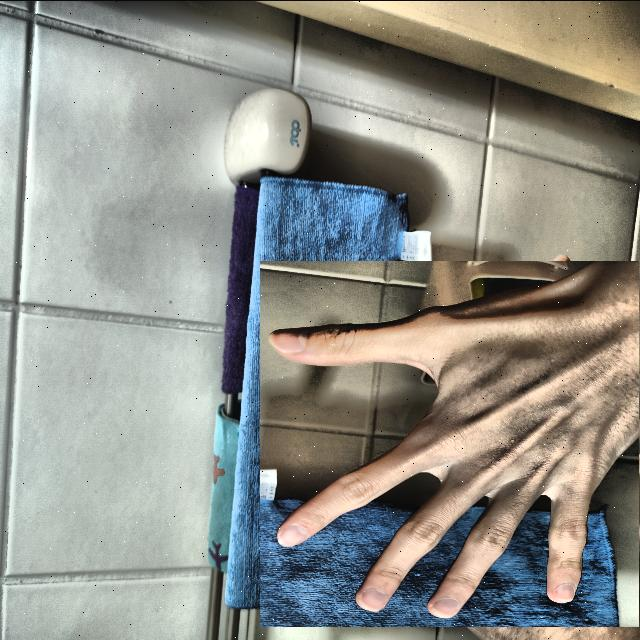not-gloved: (266, 253, 640, 633)
